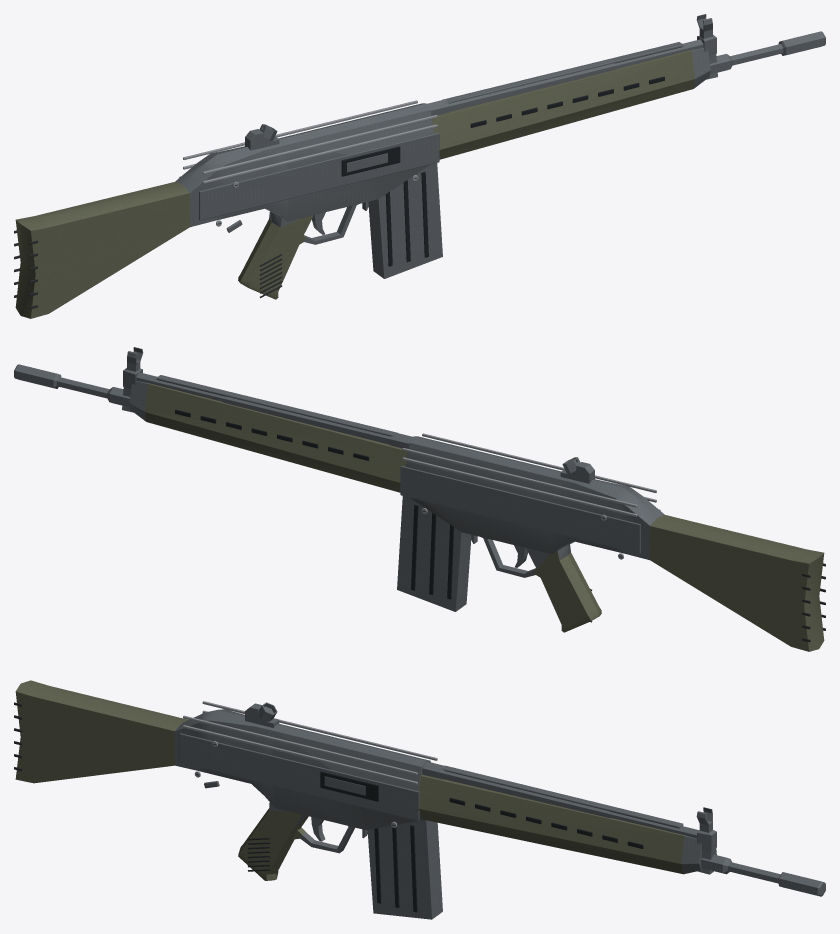
The model's file is g3a3-detail111.glb.
3 renders of one model, top to bottom at view 1: azimuth 30°, elevation 25°; view 2: azimuth 150°, elevation 25°; view 3: azimuth 330°, elevation 25°, orthographic.
Parts seen in each view (by area): view 1: Tabasco_g3a3_retained_silhouette_bevelled111; view 2: Tabasco_g3a3_retained_silhouette_bevelled111; view 3: Tabasco_g3a3_retained_silhouette_bevelled111.
Boxes of the visible parts, x1=… form: Tabasco_g3a3_retained_silhouette_bevelled111: x1=14, y1=14, x2=825, y2=318; Tabasco_g3a3_retained_silhouette_bevelled111: x1=14, y1=347, x2=825, y2=651; Tabasco_g3a3_retained_silhouette_bevelled111: x1=14, y1=680, x2=825, y2=919.
Bounding box in the file's own units: 0.9763 × 0.2078 × 0.049.
5 materials, 3 textured.
